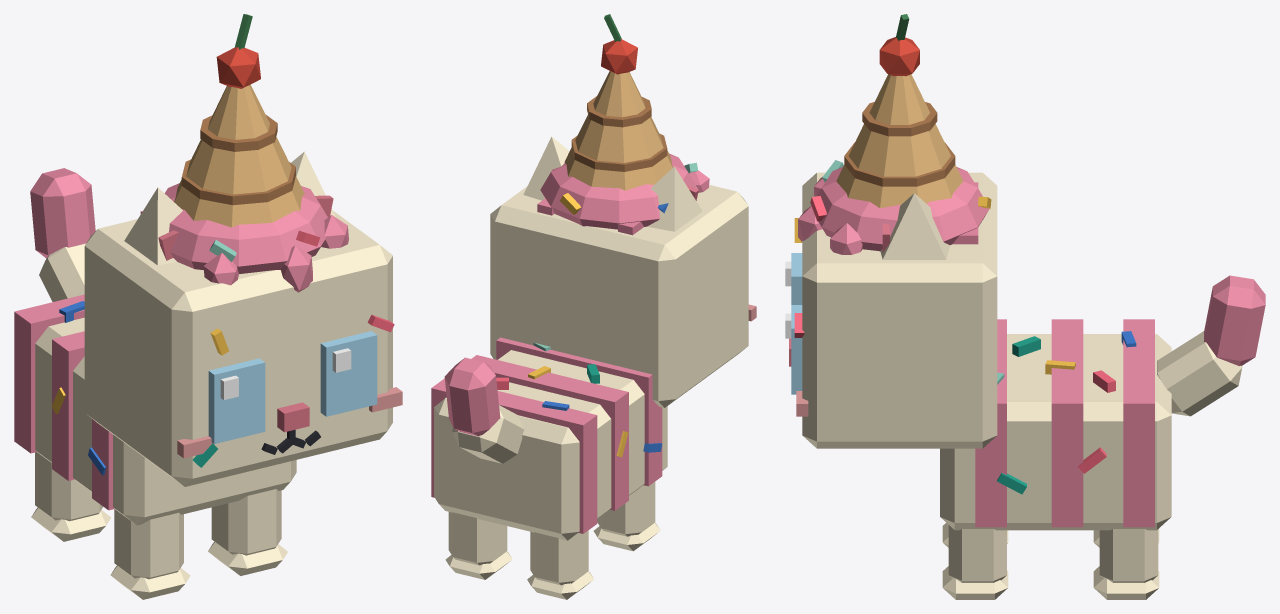
File: CatCafe_Cat_Comet.glb
The picture shows the model from 3 angles, left to right: view 1: azimuth 30°, elevation 25°; view 2: azimuth 150°, elevation 25°; view 3: azimuth 270°, elevation 25°; orthographic projection. The views are drawn at different scales.
Parts seen in each view (by area): view 1: CatCafe_Cat_Comet_Head, CatCafe_Cat_Comet_Prop, CatCafe_Cat_Comet_Body, CatCafe_Cat_Comet_Tail, CatCafe_Cat_Comet_LegF2, CatCafe_Cat_Comet_LegF1, CatCafe_Cat_Comet_Eye1, CatCafe_Cat_Comet_Eye2, CatCafe_Cat_Comet_LegB2, CatCafe_Cat_Comet_EarR, CatCafe_Cat_Comet_EarL; view 2: CatCafe_Cat_Comet_Head, CatCafe_Cat_Comet_Body, CatCafe_Cat_Comet_Prop, CatCafe_Cat_Comet_Tail, CatCafe_Cat_Comet_LegB2, CatCafe_Cat_Comet_LegB1, CatCafe_Cat_Comet_LegF2, CatCafe_Cat_Comet_EarR, CatCafe_Cat_Comet_EarL; view 3: CatCafe_Cat_Comet_Head, CatCafe_Cat_Comet_Body, CatCafe_Cat_Comet_Prop, CatCafe_Cat_Comet_Tail, CatCafe_Cat_Comet_LegB1, CatCafe_Cat_Comet_LegF1, CatCafe_Cat_Comet_EarL, CatCafe_Cat_Comet_Eye1, CatCafe_Cat_Comet_Eye2.
Boxes of the visible parts, left/top/right/bottom form: CatCafe_Cat_Comet_Head: left=84, top=211, right=402, bottom=486; CatCafe_Cat_Comet_Prop: left=164, top=14, right=348, bottom=292; CatCafe_Cat_Comet_Body: left=14, top=294, right=296, bottom=525; CatCafe_Cat_Comet_Tail: left=30, top=168, right=95, bottom=301; CatCafe_Cat_Comet_LegF2: left=110, top=509, right=190, bottom=599; CatCafe_Cat_Comet_LegF1: left=208, top=489, right=287, bottom=575; CatCafe_Cat_Comet_Eye1: left=320, top=331, right=377, bottom=416; CatCafe_Cat_Comet_Eye2: left=208, top=358, right=265, bottom=443; CatCafe_Cat_Comet_LegB2: left=31, top=452, right=111, bottom=541; CatCafe_Cat_Comet_EarR: left=124, top=187, right=182, bottom=265; CatCafe_Cat_Comet_EarL: left=291, top=151, right=336, bottom=217; CatCafe_Cat_Comet_Head: left=490, top=185, right=756, bottom=407; CatCafe_Cat_Comet_Body: left=431, top=337, right=667, bottom=540; CatCafe_Cat_Comet_Prop: left=540, top=14, right=709, bottom=229; CatCafe_Cat_Comet_Tail: left=444, top=357, right=524, bottom=463; CatCafe_Cat_Comet_LegB2: left=527, top=530, right=593, bottom=599; CatCafe_Cat_Comet_LegB1: left=445, top=512, right=512, bottom=579; CatCafe_Cat_Comet_LegF2: left=593, top=482, right=660, bottom=551; CatCafe_Cat_Comet_EarR: left=647, top=166, right=702, bottom=231; CatCafe_Cat_Comet_EarL: left=523, top=136, right=569, bottom=200; CatCafe_Cat_Comet_Head: left=789, top=172, right=997, bottom=448; CatCafe_Cat_Comet_Body: left=940, top=319, right=1171, bottom=530; CatCafe_Cat_Comet_Prop: left=798, top=14, right=991, bottom=254; CatCafe_Cat_Comet_Tail: left=1157, top=275, right=1265, bottom=416; CatCafe_Cat_Comet_LegB1: left=1093, top=529, right=1159, bottom=599; CatCafe_Cat_Comet_LegF1: left=942, top=525, right=1008, bottom=599; CatCafe_Cat_Comet_EarL: left=880, top=193, right=949, bottom=259; CatCafe_Cat_Comet_Eye1: left=785, top=305, right=802, bottom=394; CatCafe_Cat_Comet_Eye2: left=785, top=253, right=802, bottom=304.
Size of the model in its own units: 1 by 2.53 by 1.97.
Materials: 1 (1 with a texture image).
